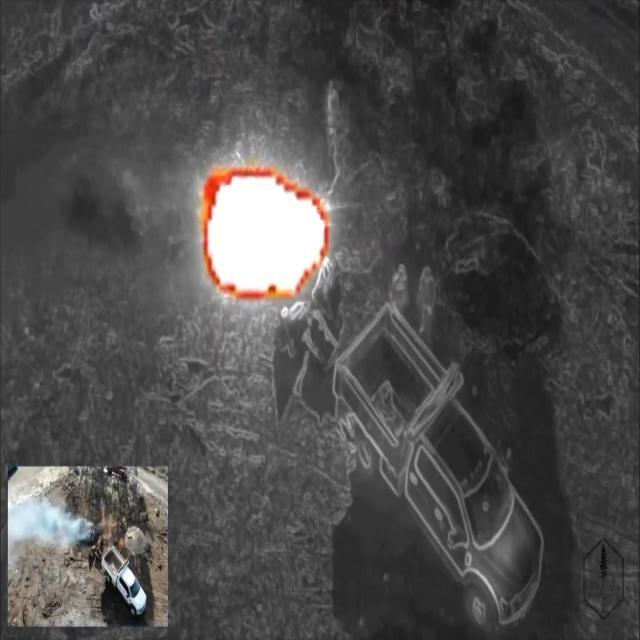fire: (199, 160, 331, 306)
